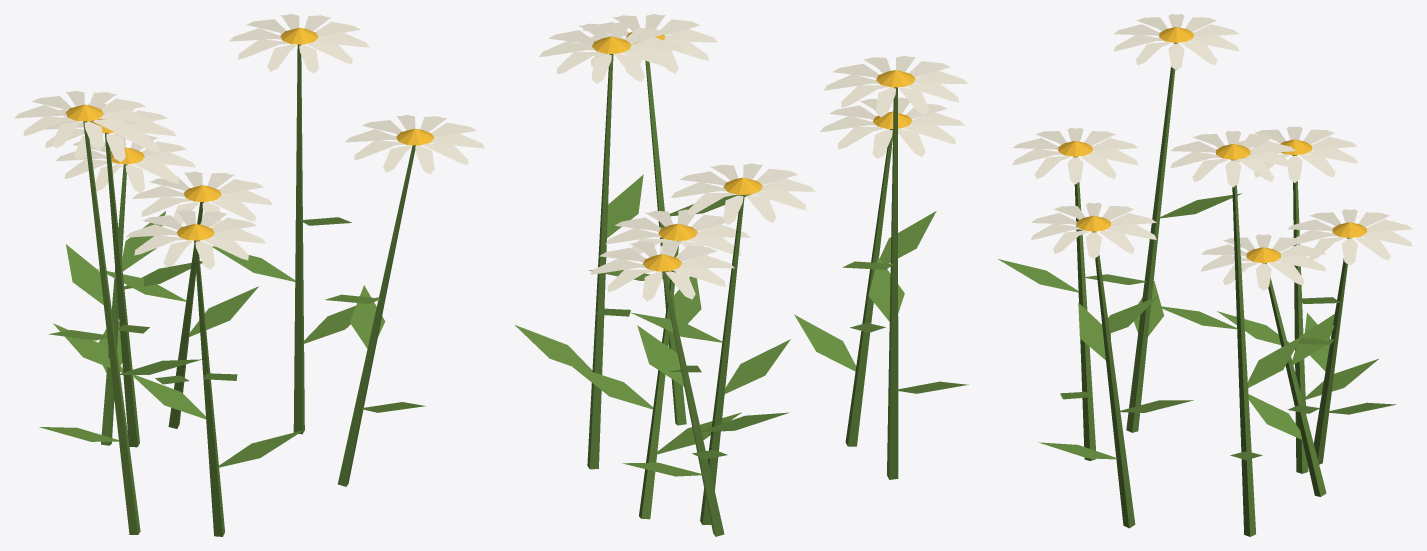
Rendered from Wildflower_LOD1.fbx.
3 renders of one model, left to right at view 1: azimuth 30°, elevation 25°; view 2: azimuth 150°, elevation 25°; view 3: azimuth 270°, elevation 25°, orthographic. The views are drawn at different scales.
Parts seen in each view (by area): view 1: Wildflower_LOD1; view 2: Wildflower_LOD1; view 3: Wildflower_LOD1.
Boxes of the visible parts, bbox=[...] form: Wildflower_LOD1: bbox=[14, 14, 485, 536]; Wildflower_LOD1: bbox=[515, 14, 968, 536]; Wildflower_LOD1: bbox=[998, 14, 1412, 536].
Size of the model in its own units: 66.07 by 64.71 by 62.08.
